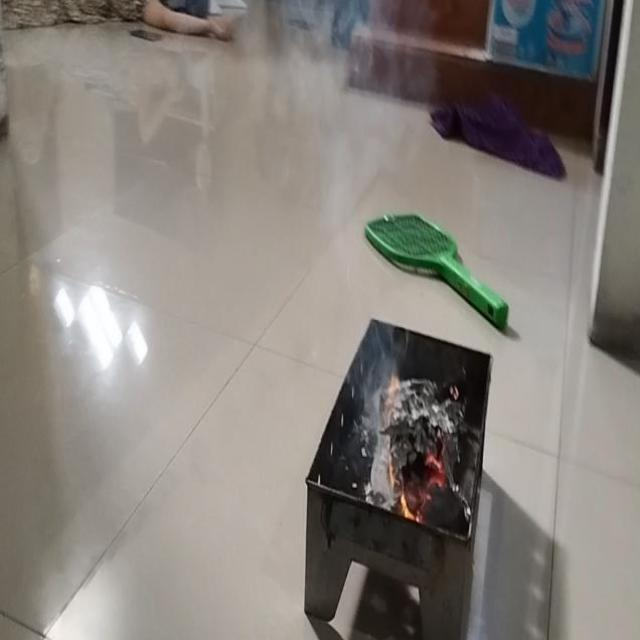fire: (282, 0, 432, 189), (346, 316, 398, 477)
smoke: (396, 448, 450, 528)
